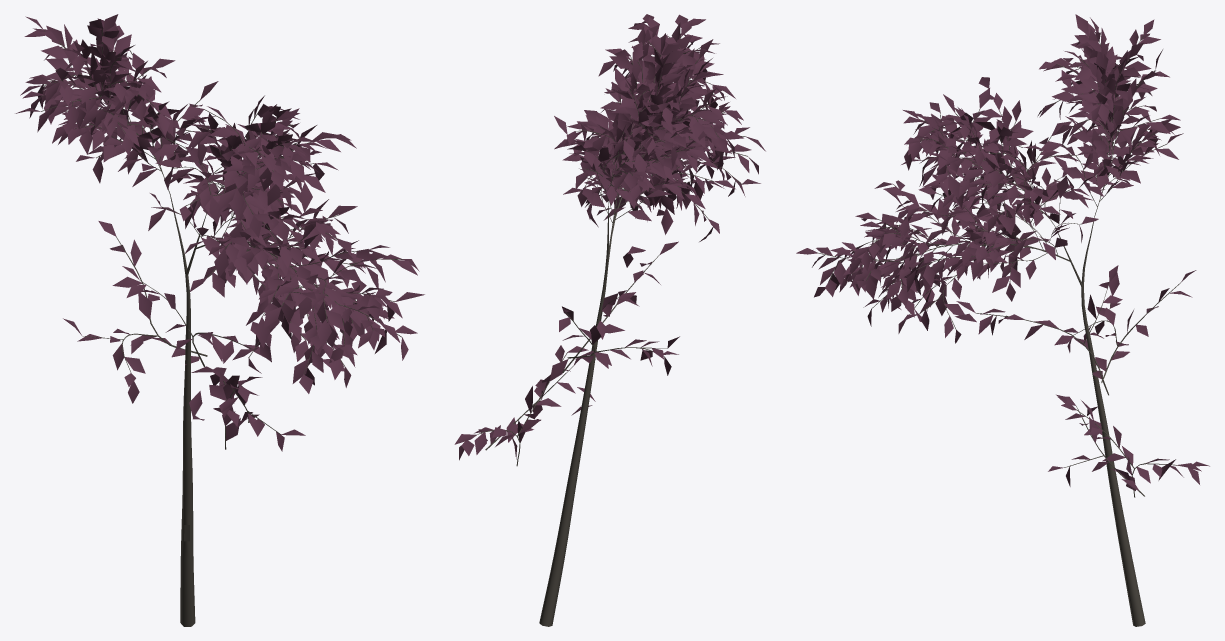
File: Tree 3.glb
3 views of the same model, side by side, from view 1: azimuth 30°, elevation 25°; view 2: azimuth 150°, elevation 25°; view 3: azimuth 270°, elevation 25° (orthographic). The views are drawn at different scales.
Visible parts, largest first — view 1: Tree_Prunus-cerasifera_A_summer.002; view 2: Tree_Prunus-cerasifera_A_summer.002; view 3: Tree_Prunus-cerasifera_A_summer.002.
Boxes of the visible parts, bbox=[...] form: Tree_Prunus-cerasifera_A_summer.002: bbox=[15, 14, 424, 626]; Tree_Prunus-cerasifera_A_summer.002: bbox=[454, 14, 765, 626]; Tree_Prunus-cerasifera_A_summer.002: bbox=[796, 14, 1209, 626].
Size of the model in its own units: 1.89 by 4.47 by 3.02.
